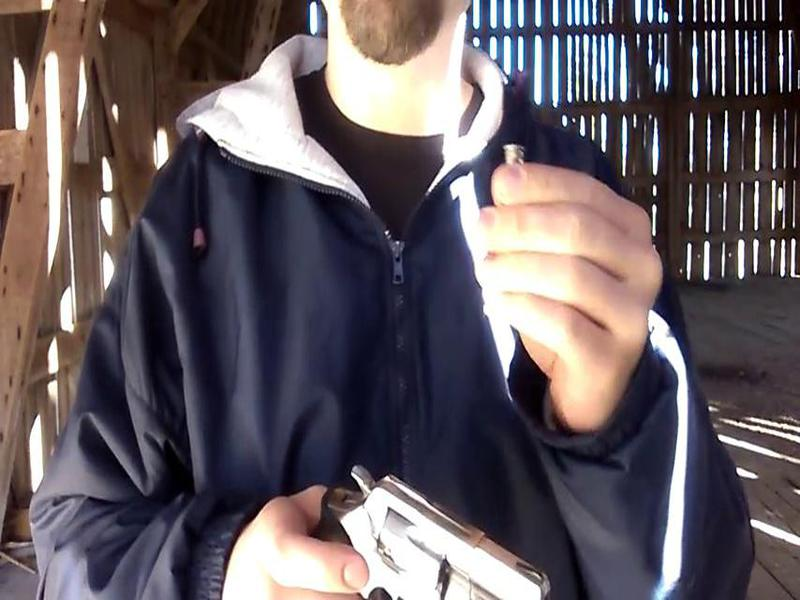Revolver: (313, 447, 555, 600)
